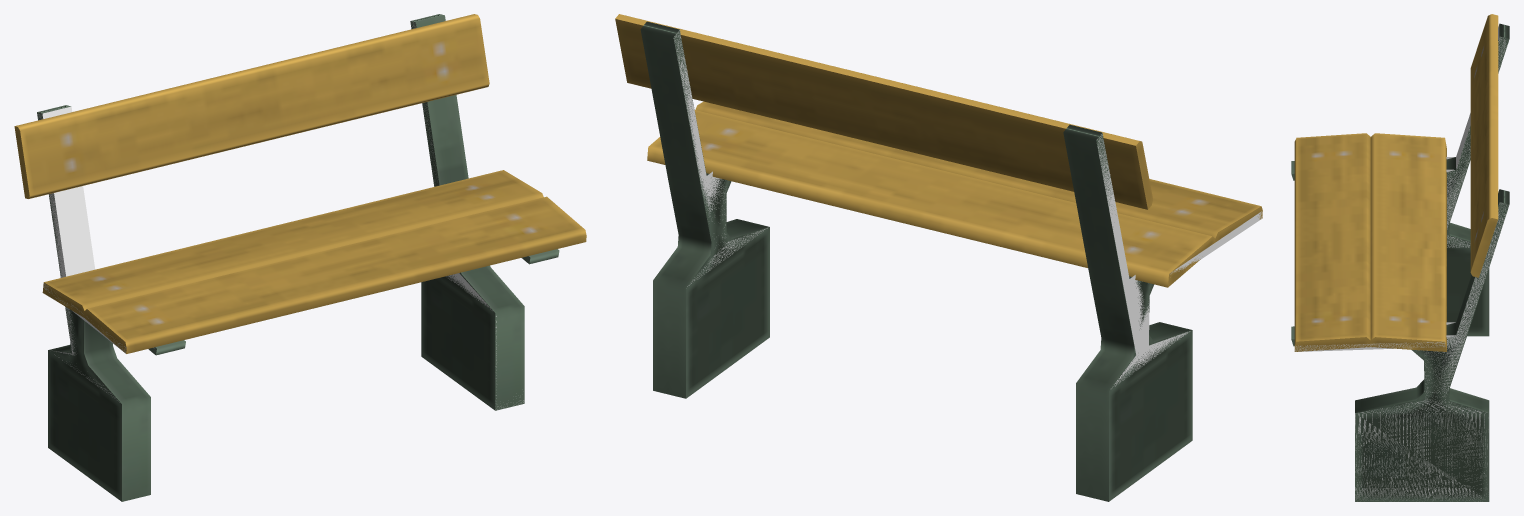
The model's file is objects_un_bench01.gltf.
3 renders of one model, left to right at view 1: azimuth 30°, elevation 25°; view 2: azimuth 150°, elevation 25°; view 3: azimuth 270°, elevation 25°, orthographic. The views are drawn at different scales.
Visible parts, largest first — view 1: um_objects_un_bench01_model_lod0Shape:objects_un_bench01_01, um_objects_un_bench01_model_lod0Shape:objects_un_bench01_sha; view 2: um_objects_un_bench01_model_lod0Shape:objects_un_bench01_01, um_objects_un_bench01_model_lod0Shape:objects_un_bench01_sha; view 3: um_objects_un_bench01_model_lod0Shape:objects_un_bench01_01, um_objects_un_bench01_model_lod0Shape:objects_un_bench01_sha.
Boxes of the visible parts, x1,y1,x2,y2 form: um_objects_un_bench01_model_lod0Shape:objects_un_bench01_01: (14,14,586,501); um_objects_un_bench01_model_lod0Shape:objects_un_bench01_sha: (37,21,525,409); um_objects_un_bench01_model_lod0Shape:objects_un_bench01_01: (615,14,1262,501); um_objects_un_bench01_model_lod0Shape:objects_un_bench01_sha: (673,30,1262,388); um_objects_un_bench01_model_lod0Shape:objects_un_bench01_01: (1291,14,1509,501); um_objects_un_bench01_model_lod0Shape:objects_un_bench01_sha: (1294,25,1509,501).
Size of what is drawn, in the model's own units: 1.6 by 1.1 by 0.7239.
Materials: 2 (1 with a texture image).
